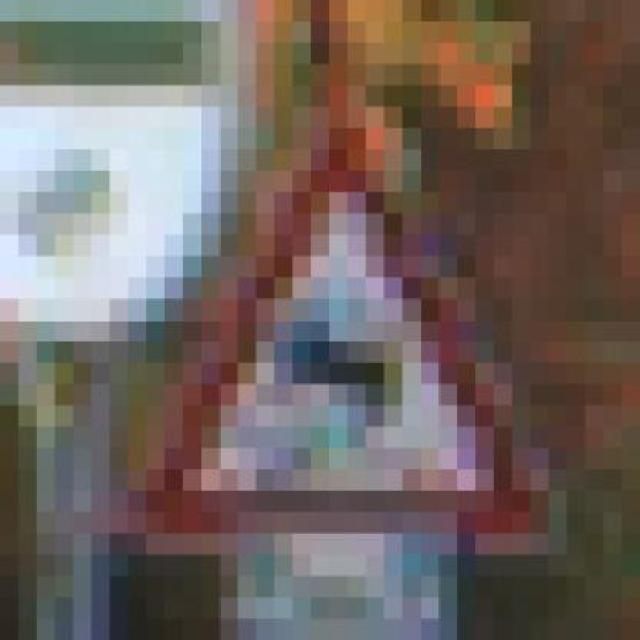Slippery Road Ahead: (110, 86, 567, 554)
